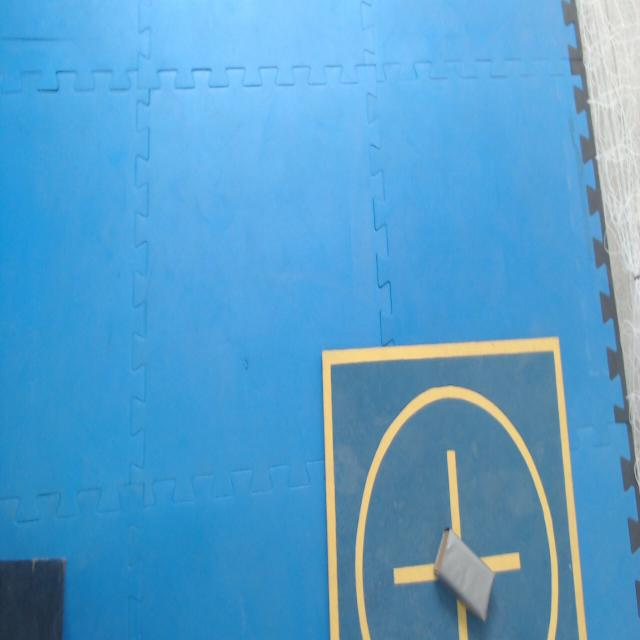lipo: (434, 529, 494, 620)
